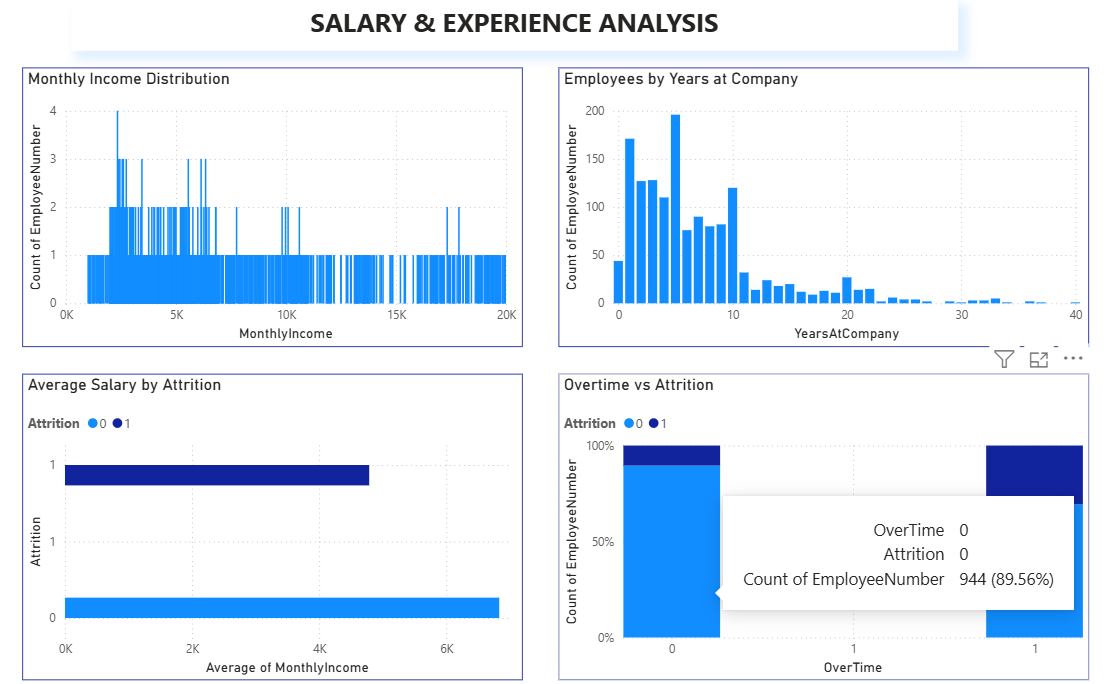

What the dashboard file says about the page in this screenshot:
{"tool":"powerbi","page":{"name":"Page 3","canvas":[1280,720],"ordinal":2},"visuals":[{"type":"textbox","box":[77.5,0,921.2,52.5],"z":0},{"type":"columnChart","title":"Monthly Income Distribution","fields":{"Category":["employee_turnover_cleaned.MonthlyIncome"],"Y":["CountNonNull(employee_turnover_cleaned.EmployeeNumber)"]},"box":[27.5,70,520,290],"z":1000},{"type":"clusteredColumnChart","title":"Employees by Years at Company","fields":{"Category":["employee_turnover_cleaned.YearsAtCompany"],"Y":["CountNonNull(employee_turnover_cleaned.EmployeeNumber)"]},"box":[585,70,551.2,290],"z":2000},{"type":"clusteredBarChart","title":"Average Salary by Attrition","fields":{"Y":["Avg(employee_turnover_cleaned.MonthlyIncome)"],"Category":["employee_turnover_cleaned.Attrition"],"Series":["employee_turnover_cleaned.Attrition"]},"box":[27.5,388.8,520,318.8],"z":3000},{"type":"hundredPercentStackedColumnChart","title":"Overtime vs Attrition","fields":{"Category":["employee_turnover_cleaned.OverTime"],"Y":["CountNonNull(employee_turnover_cleaned.EmployeeNumber)"],"Series":["employee_turnover_cleaned.Attrition"]},"box":[585,388.8,551.2,318.8],"z":4000}]}

Visuals, with their boxes on the page's 1280x720 design canvas (x1, y1, x2, y2). These are canvas units, not pixel positions in the 1109x684 screenshot, which may show the page scaled, cropped or inside an application window:
textbox: BBox(78, 0, 999, 52)
"Monthly Income Distribution" columnChart: BBox(28, 70, 548, 360)
"Employees by Years at Company" clusteredColumnChart: BBox(585, 70, 1136, 360)
"Average Salary by Attrition" clusteredBarChart: BBox(28, 389, 548, 708)
"Overtime vs Attrition" hundredPercentStackedColumnChart: BBox(585, 389, 1136, 708)
